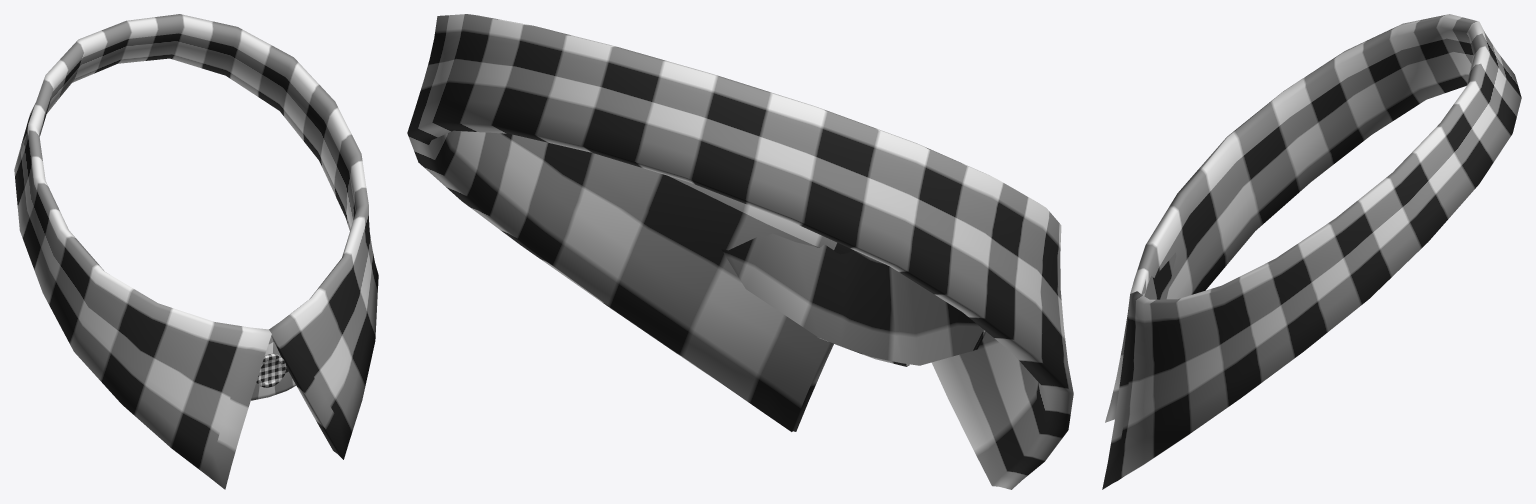
Rendered from pm0522_00_Rig.fbx.
3 views of the same model, side by side, from view 1: azimuth 30°, elevation 25°; view 2: azimuth 150°, elevation 25°; view 3: azimuth 270°, elevation 25° (orthographic). The views are drawn at different scales.
Visible parts, largest first — view 1: Fashionweek2021Skin; view 2: Fashionweek2021Skin; view 3: Fashionweek2021Skin.
Part boxes in pixels (x1,y1,x2,y2): Fashionweek2021Skin: [14, 14, 378, 489]; Fashionweek2021Skin: [407, 14, 1073, 489]; Fashionweek2021Skin: [1102, 14, 1521, 489].
Size of the model in its own units: 0.1738 by 0.1806 by 0.1669.
